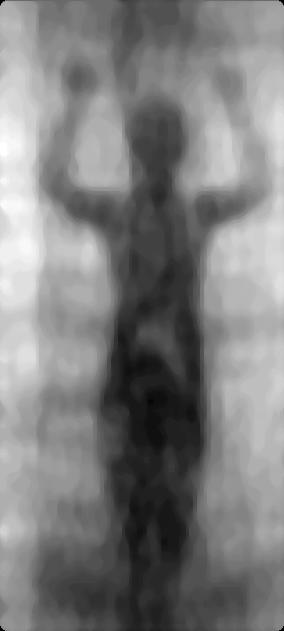gun: (118, 351, 154, 433)
person: (90, 90, 243, 629)
